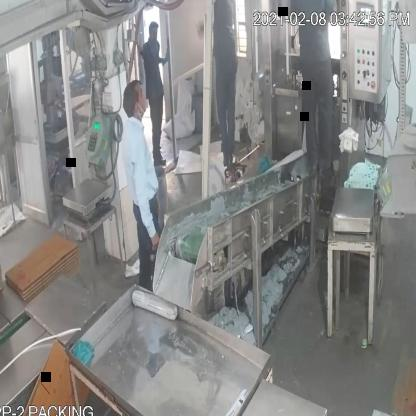no_glove: (126, 131, 162, 257)
